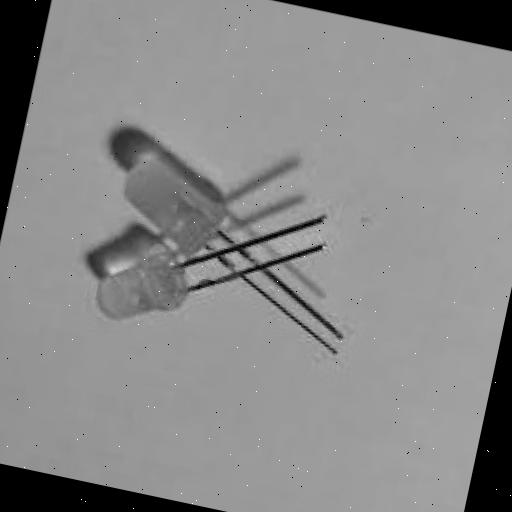LED: (12, 66, 398, 447), (100, 124, 263, 266), (80, 236, 220, 362)
